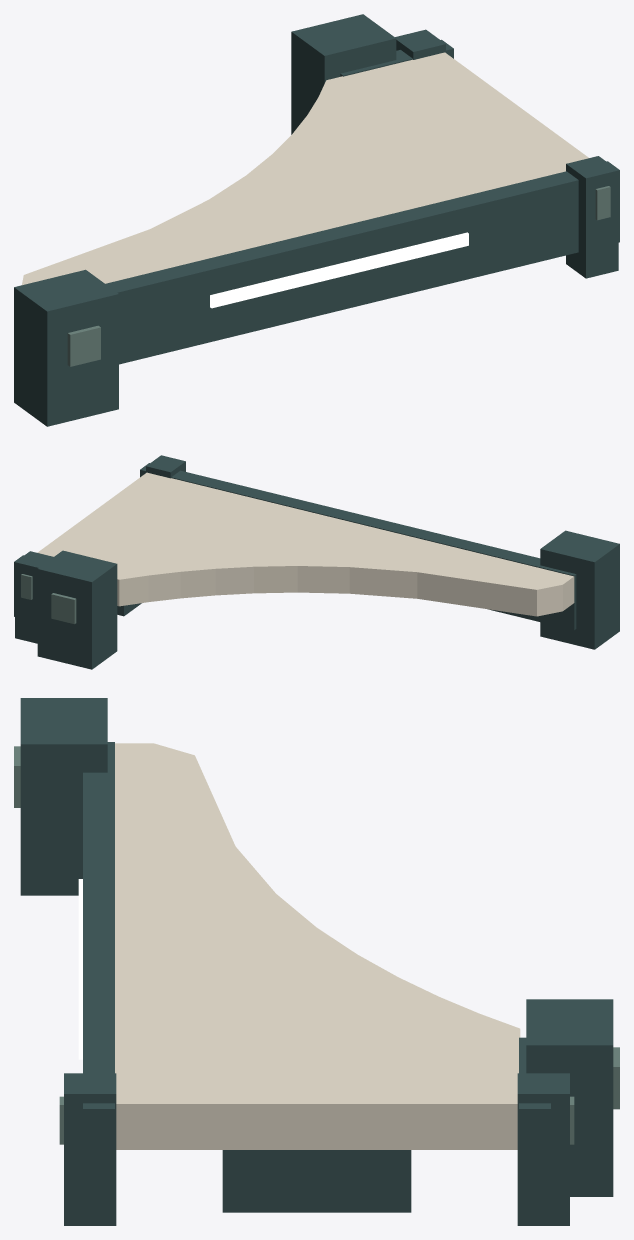
The model's file is Pier_Angled_60_lab.glb.
The picture shows the model from 3 angles, top to bottom: view 1: azimuth 30°, elevation 25°; view 2: azimuth 150°, elevation 25°; view 3: azimuth 270°, elevation 25°; orthographic projection. The views are drawn at different scales.
Parts seen in each view (by area): view 1: Pier_Angled_60; view 2: Pier_Angled_60; view 3: Pier_Angled_60.
Boxes of the visible parts, <box> form: Pier_Angled_60: <box>14,14,619,426</box>; Pier_Angled_60: <box>14,455,619,669</box>; Pier_Angled_60: <box>14,698,619,1225</box>.
Size of the model in its own units: 6.23 by 1.15 by 4.17.
